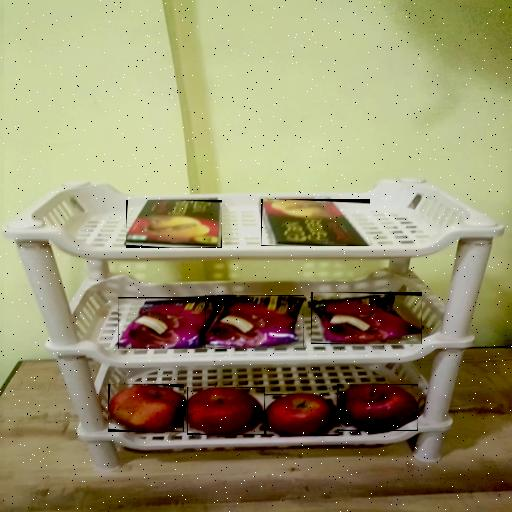Apple: (337, 384, 418, 431), (187, 387, 265, 435), (108, 384, 184, 432), (264, 394, 339, 436)
Choco Fills: (261, 199, 370, 246), (126, 200, 222, 248)
Choco Pie: (118, 297, 231, 349), (311, 292, 422, 344), (205, 296, 304, 347)
